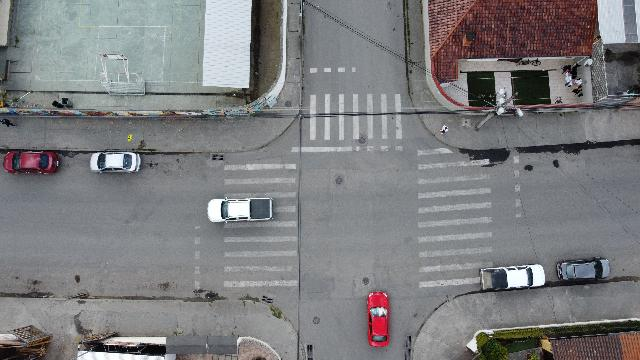Vehiculo: (479, 264, 545, 292), (207, 198, 273, 222), (557, 256, 611, 282), (4, 150, 58, 174), (368, 292, 390, 346), (90, 152, 140, 172)
